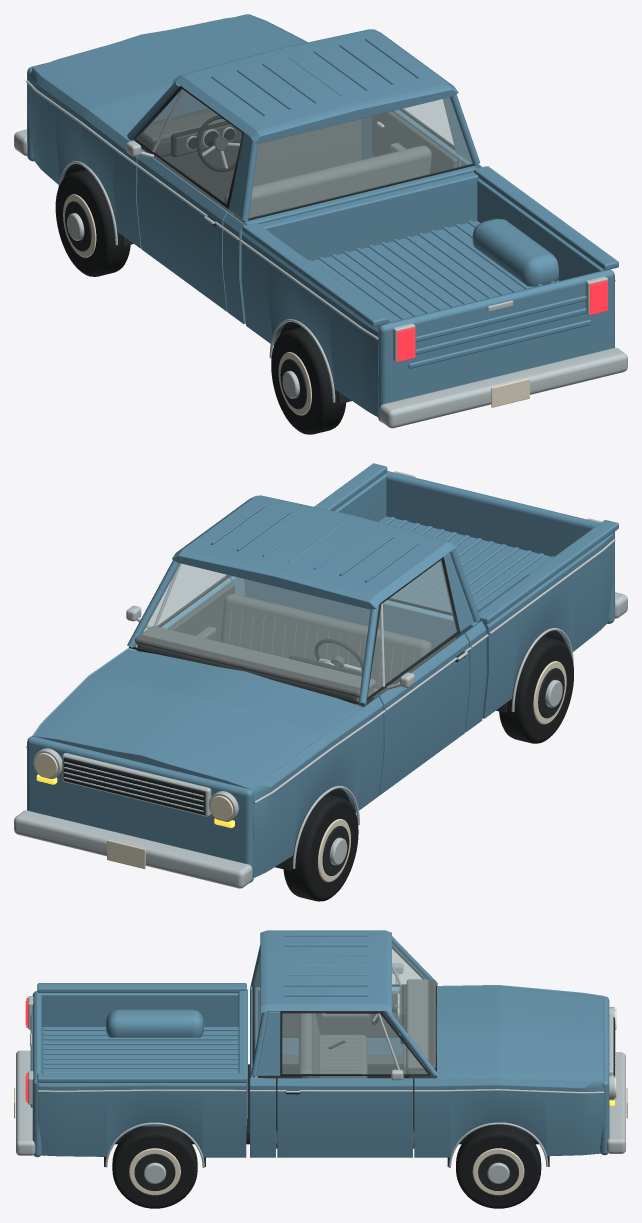
The picture shows the model from 3 angles, top to bottom: view 1: azimuth 30°, elevation 25°; view 2: azimuth 150°, elevation 25°; view 3: azimuth 270°, elevation 25°; orthographic projection. The views are drawn at different scales.
Visible parts, largest first — view 1: C10; view 2: C10; view 3: C10.
Boxes of the visible parts, left/top/right/bottom form: C10: left=14, top=14, right=627, bottom=434; C10: left=14, top=463, right=627, bottom=901; C10: left=14, top=930, right=627, bottom=1208.
Size of the model in its own units: 246 by 205 by 580.
